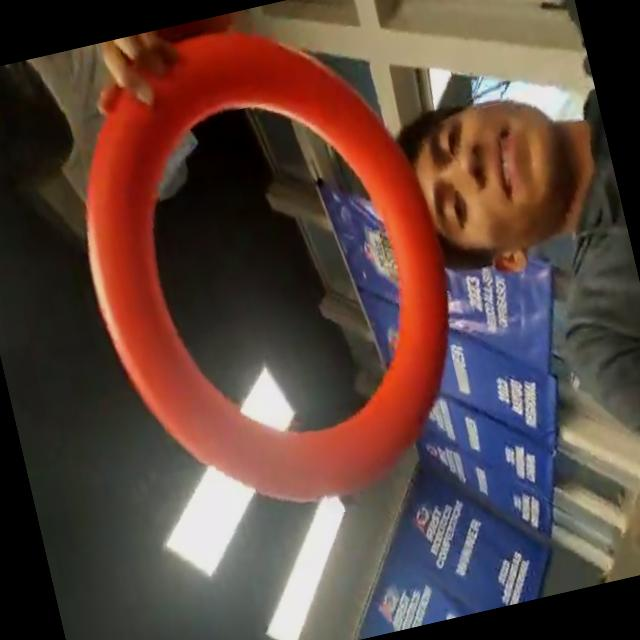note: (29, 0, 494, 550)
